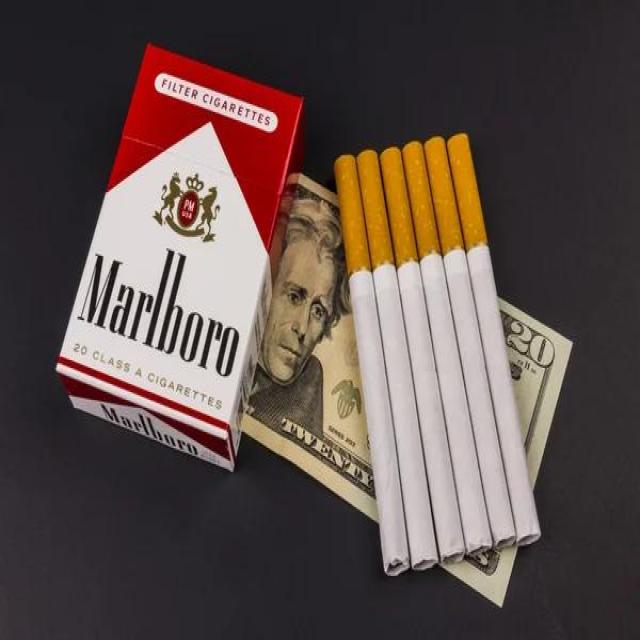cigarette: (448, 133, 541, 547), (423, 138, 515, 549), (403, 142, 493, 557), (382, 147, 465, 562), (357, 150, 437, 570), (335, 155, 410, 578)
